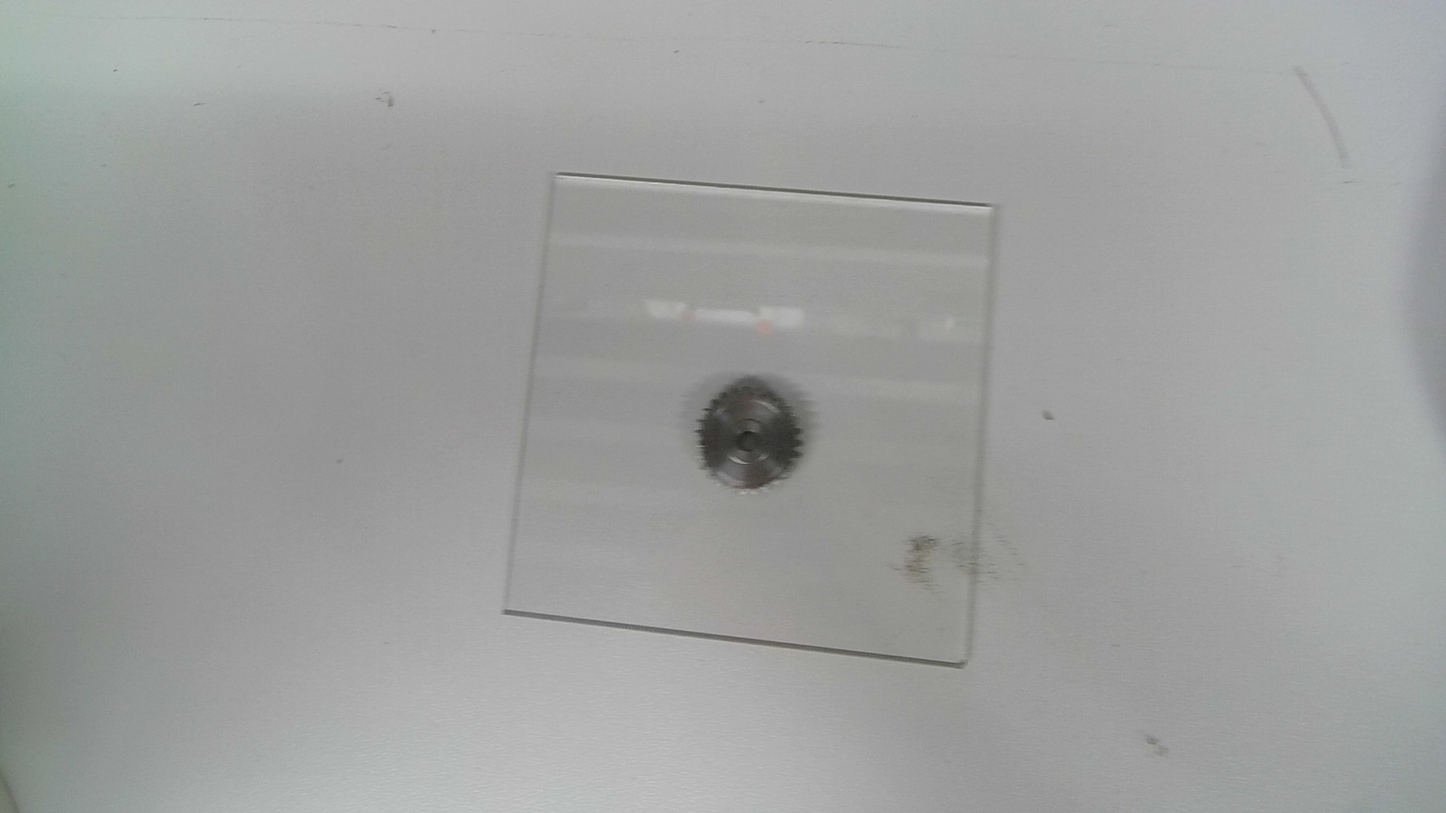gear: (694, 379, 805, 495)
